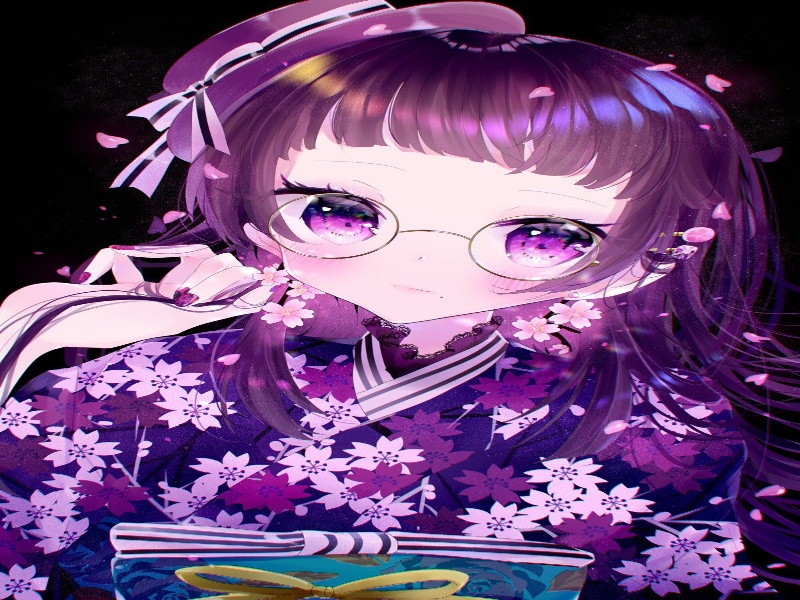person: (216, 47, 739, 339)
